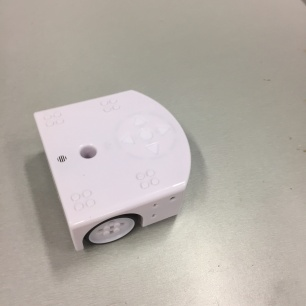thymio: (23, 85, 203, 256)
